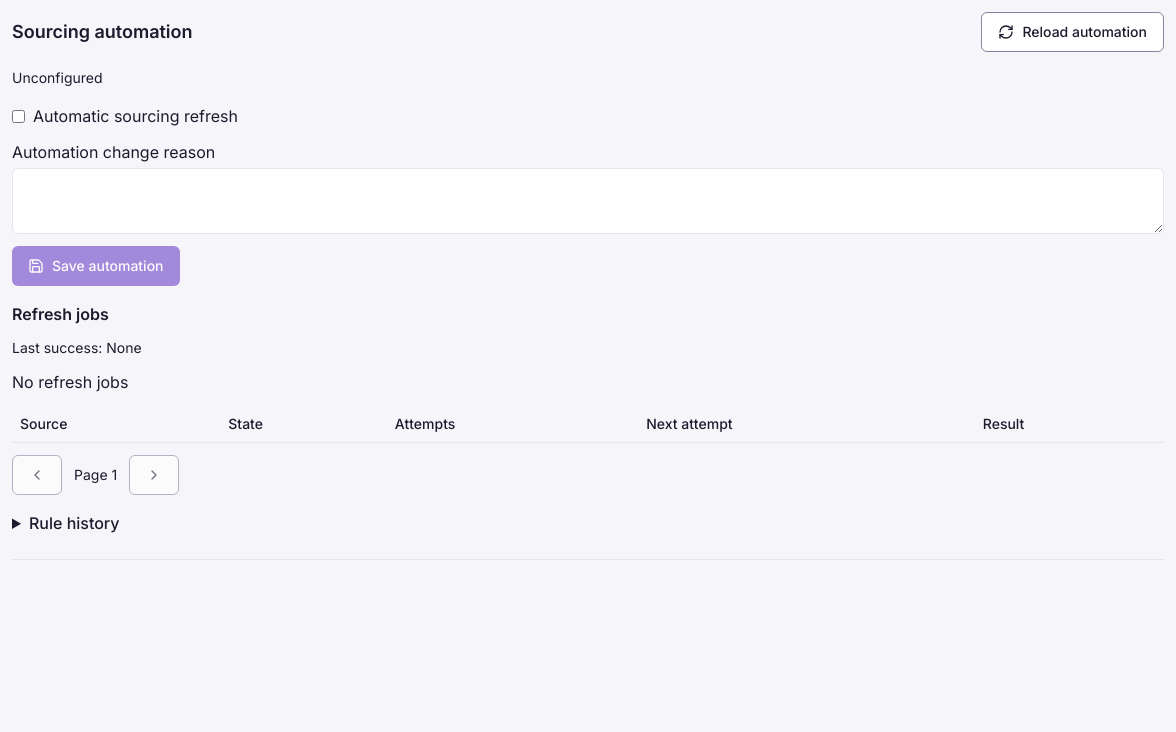
Test: Sourcing automation controls › starts disabled and requires an explicit reason before saving
The image size is (1176, 732).
Check: the button "Save automation" is disabled, box [12,246,180,286]
Click the checkbox labelled "Automatic sourcing refresh" at (18, 116), box [12,110,25,122]
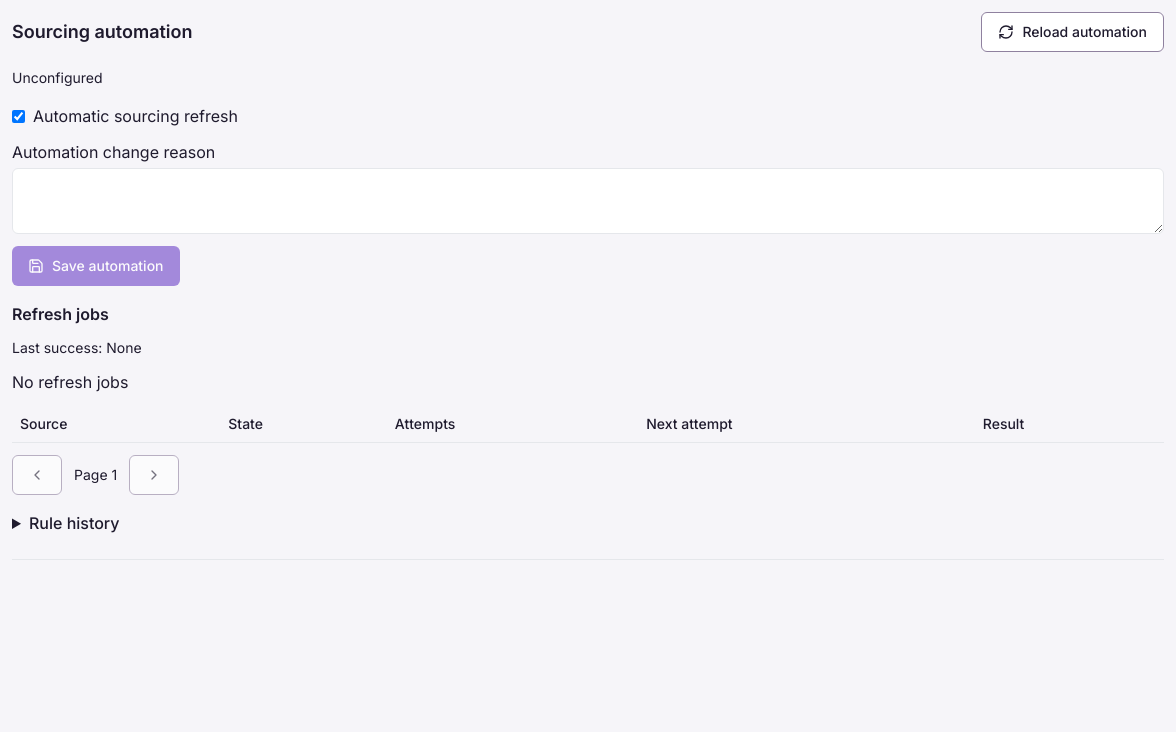
Type "Reviewed source processing" into the text box labelled "Automation change reason" at (588, 201), box [12,168,1164,234]
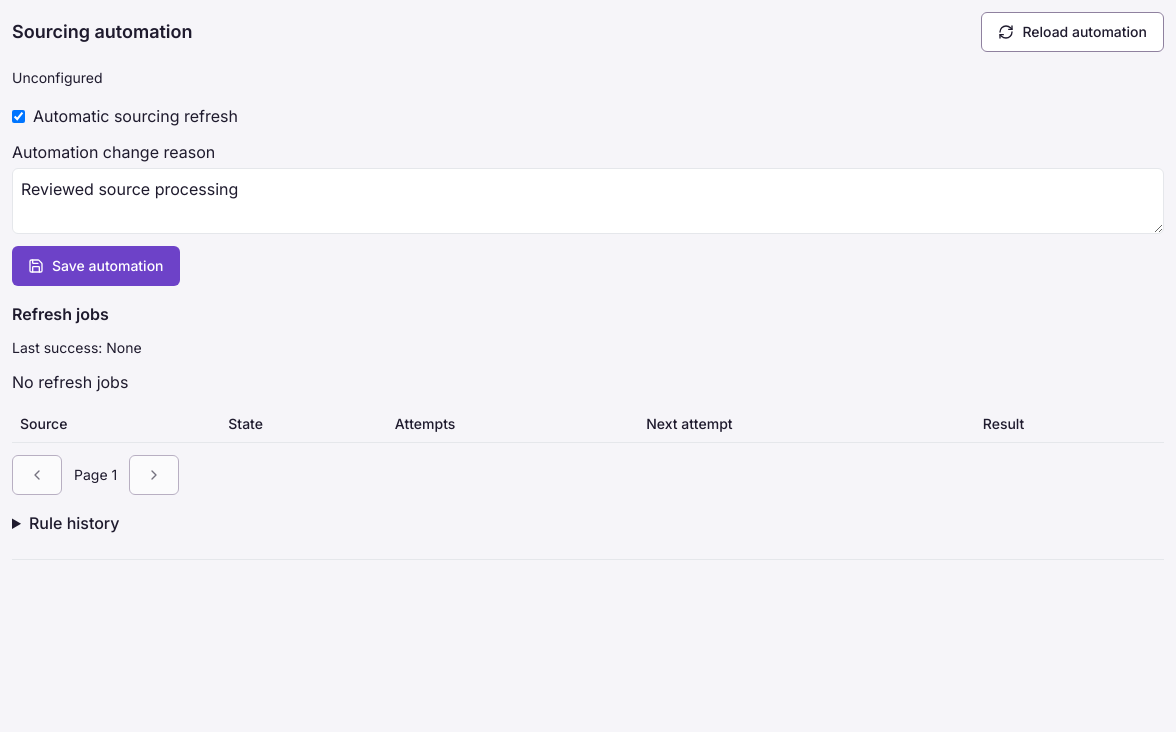
Click the button "Save automation" at (96, 266), box [12,246,180,286]
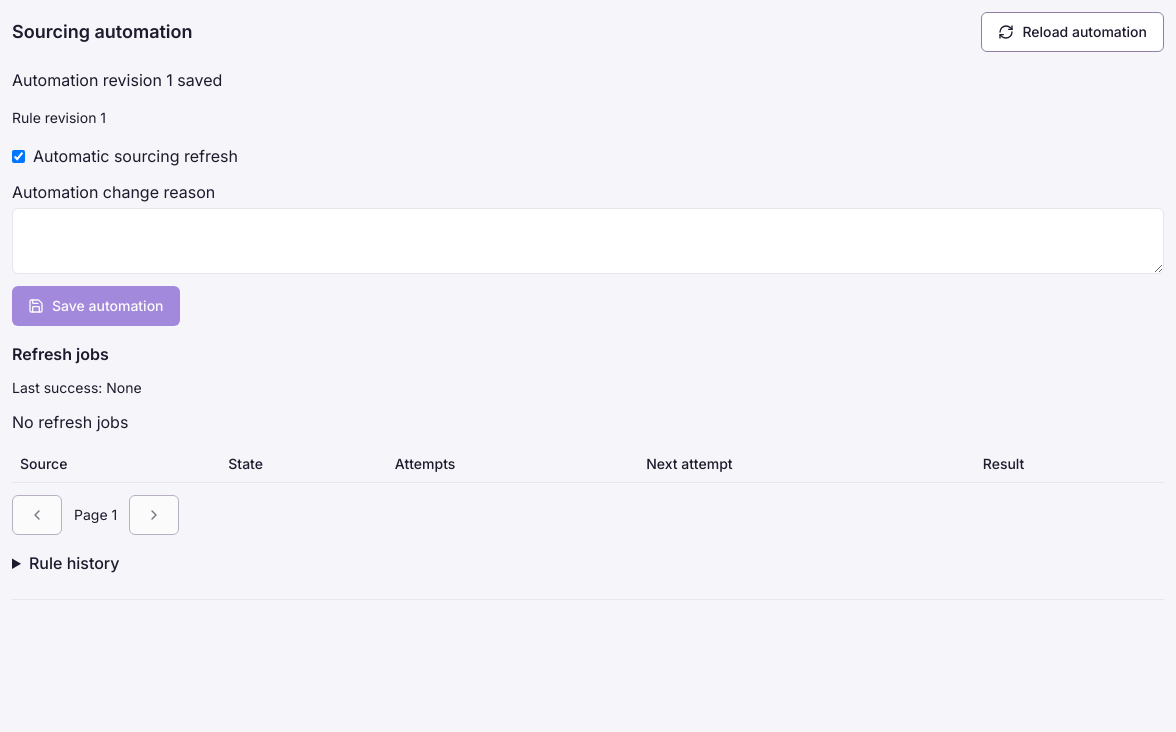
Check: the text "Automation revision 1 saved" is shown, box [12,70,222,90]
